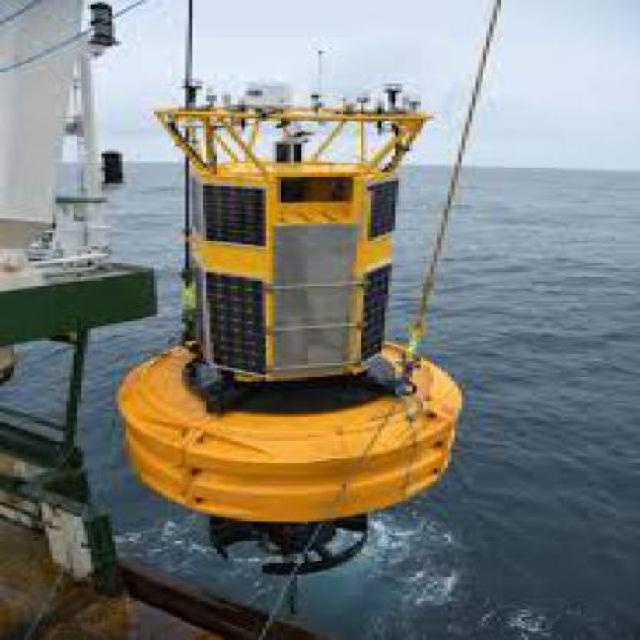buoy: (99, 66, 488, 464)
